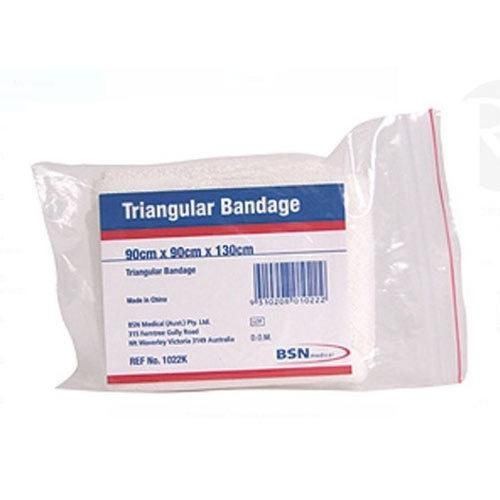bandage: (85, 157, 374, 392)
